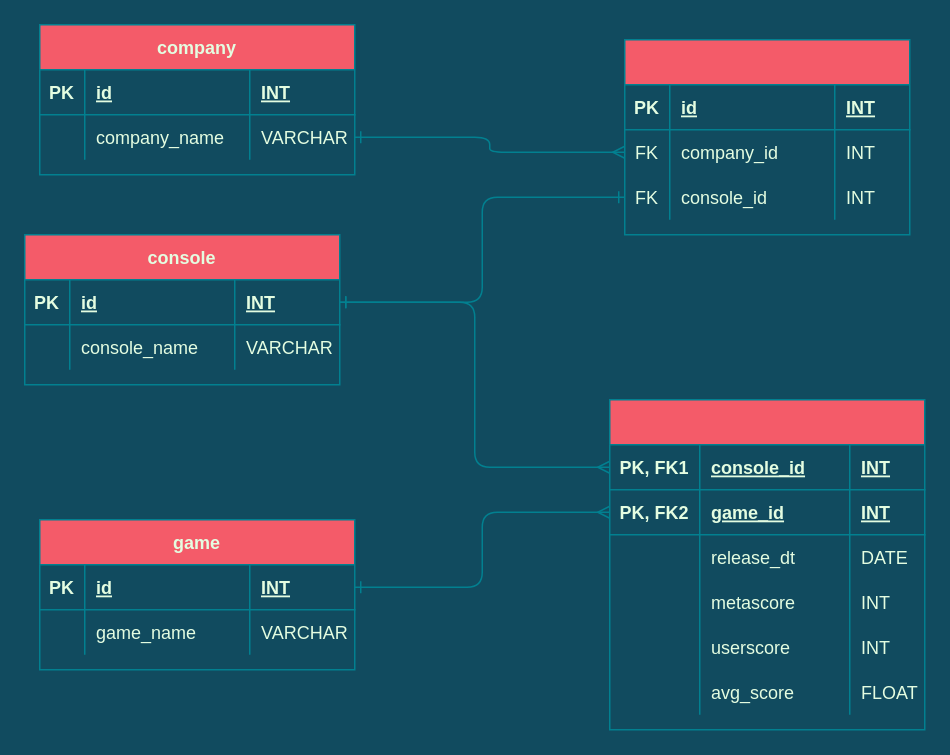
The diagram is 950 pixels wide and 755 high, and some of its shapes have lost their labels. Each missing label, with the box of its shape:
console_company: (623, 38, 910, 235)
game_score: (608, 398, 925, 730)
